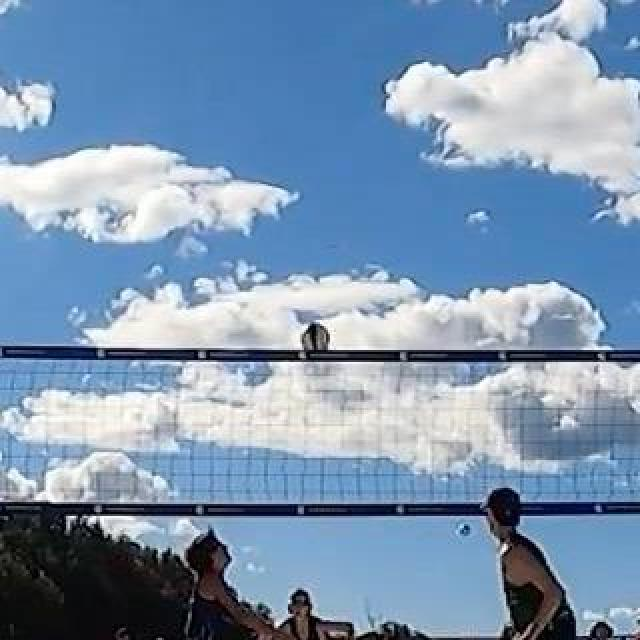volleyball: (302, 322, 328, 352)
